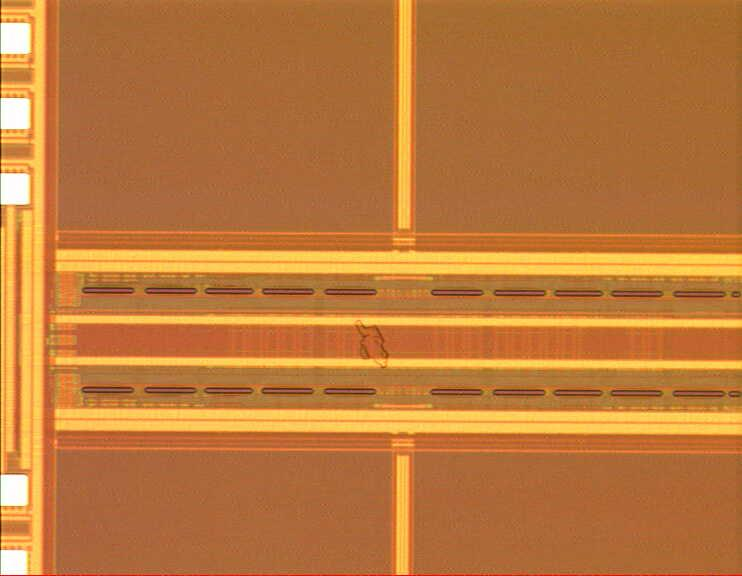PIQ PARTICLE: (349, 313, 392, 376)
